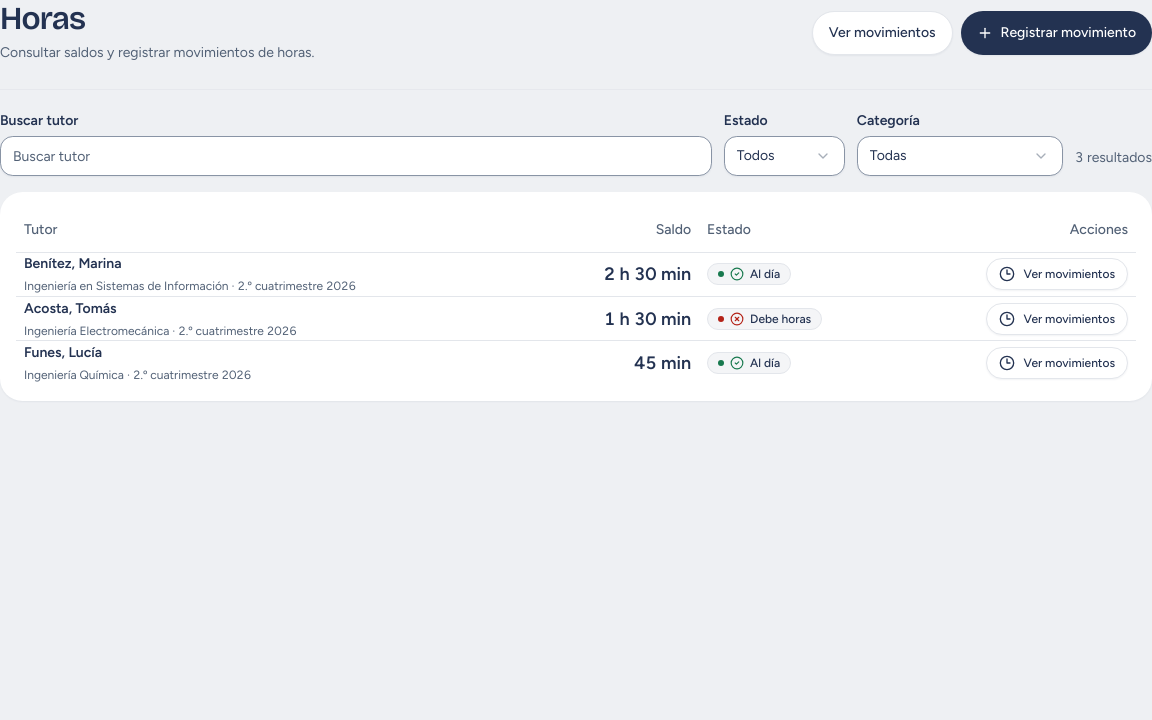
it: HoursScreen › opens the transaction dialog with a complete confirmation summary
Click the button "Registrar movimiento" at (1056, 33), box [960,11,1151,55]
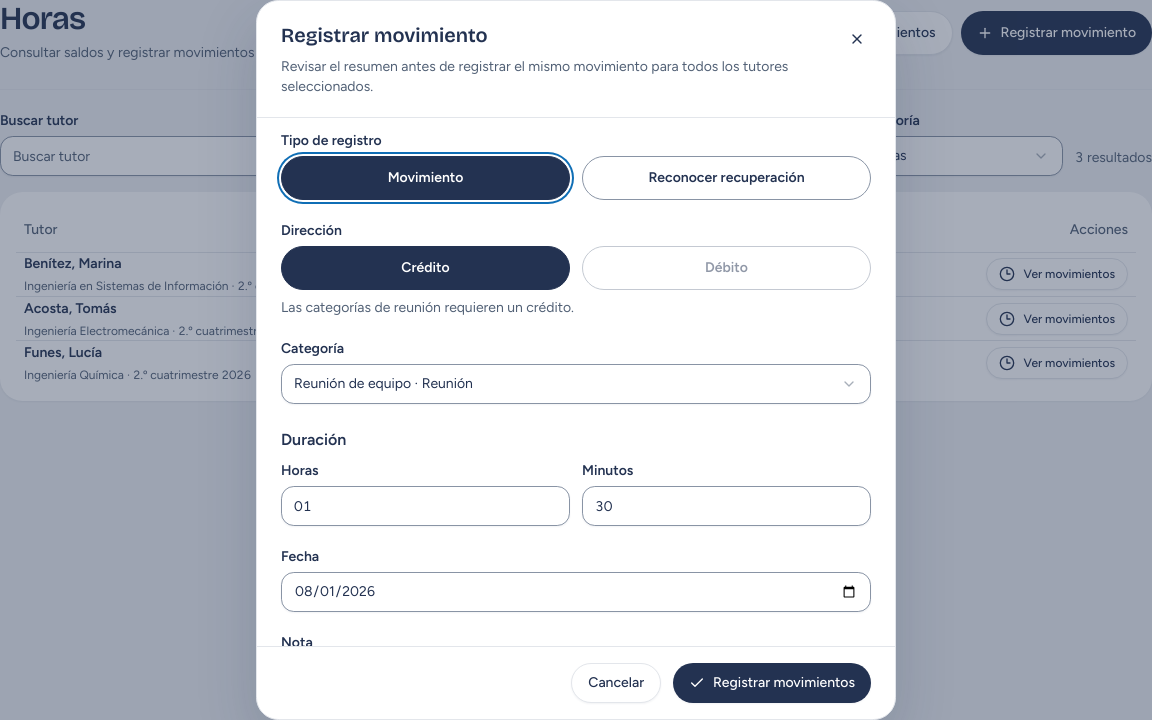
Check: the text "Dirección" is shown, box [281,222,342,239]
Check: the dropdown labelled "Categoría" shows "Reunión de equipo · Reunión"
Check: the number field labelled "Horas" holds "1", box [281,486,570,526]
Select "Guardia" in the dropdown labelled "Categoría" at (576, 384), box [281,364,871,404]
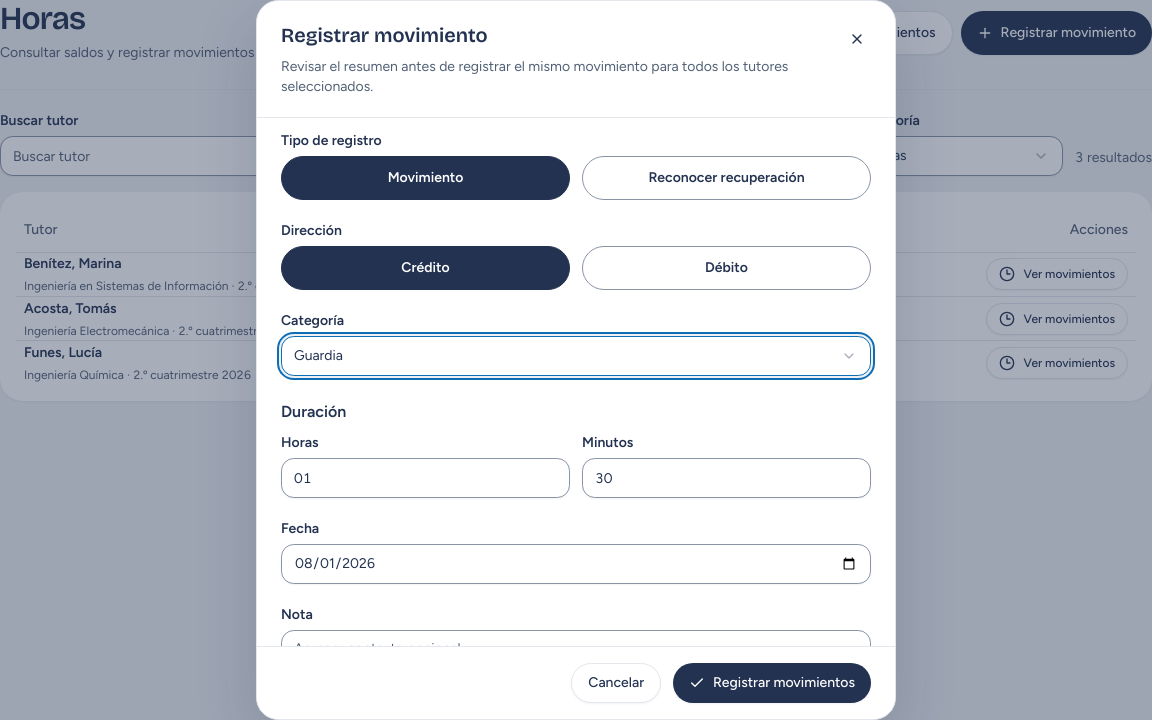
Click the radio button labelled "Débito" at (726, 268), box [582,246,871,290]
(page scrolled)
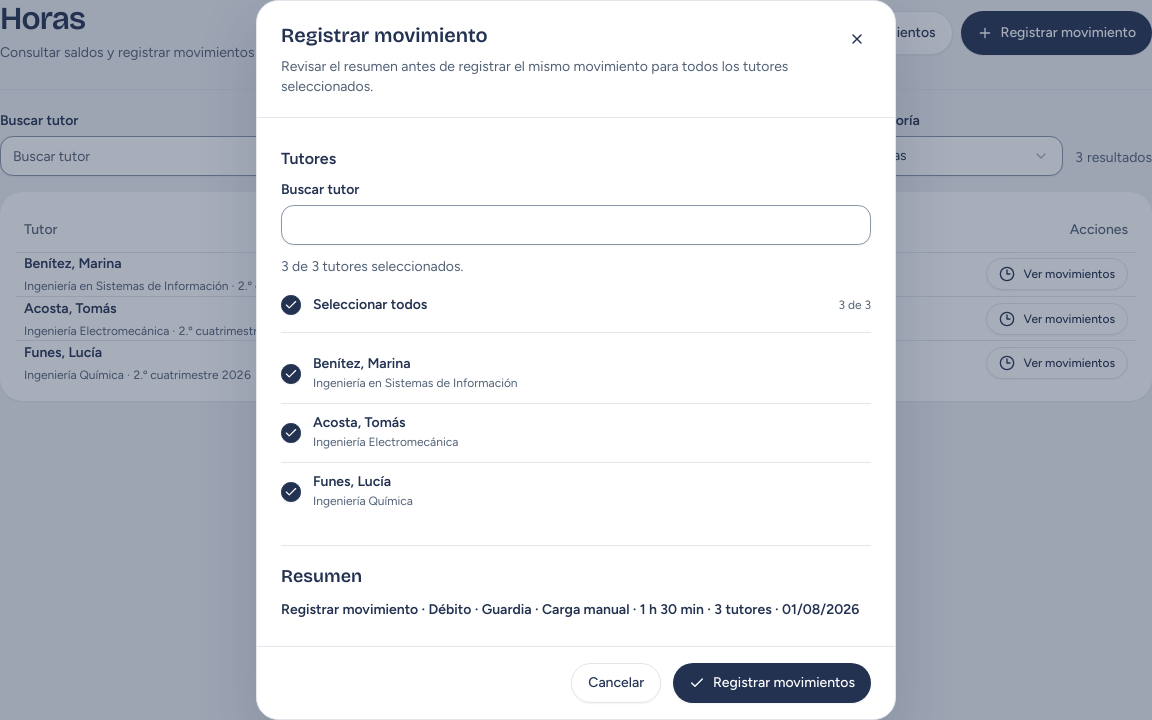
Check: the text "Débito · Guardia · Carga manual · 1 h 30 min · 3 tutores · 01/08/2026" is shown, box [281,601,859,618]
